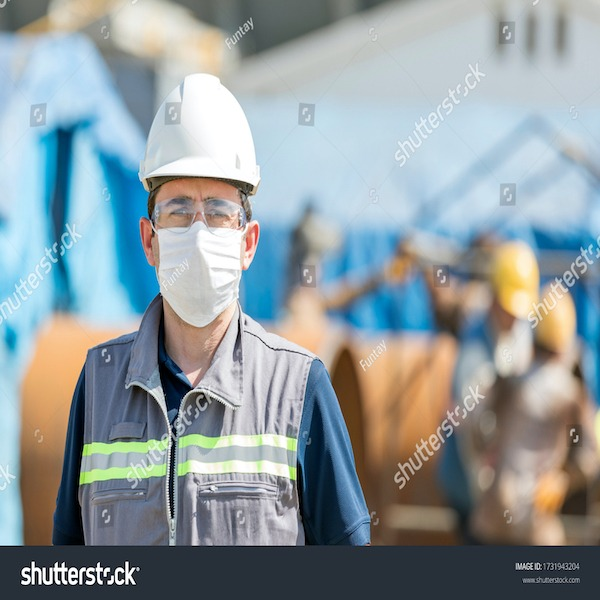helmet: (137, 71, 262, 193)
